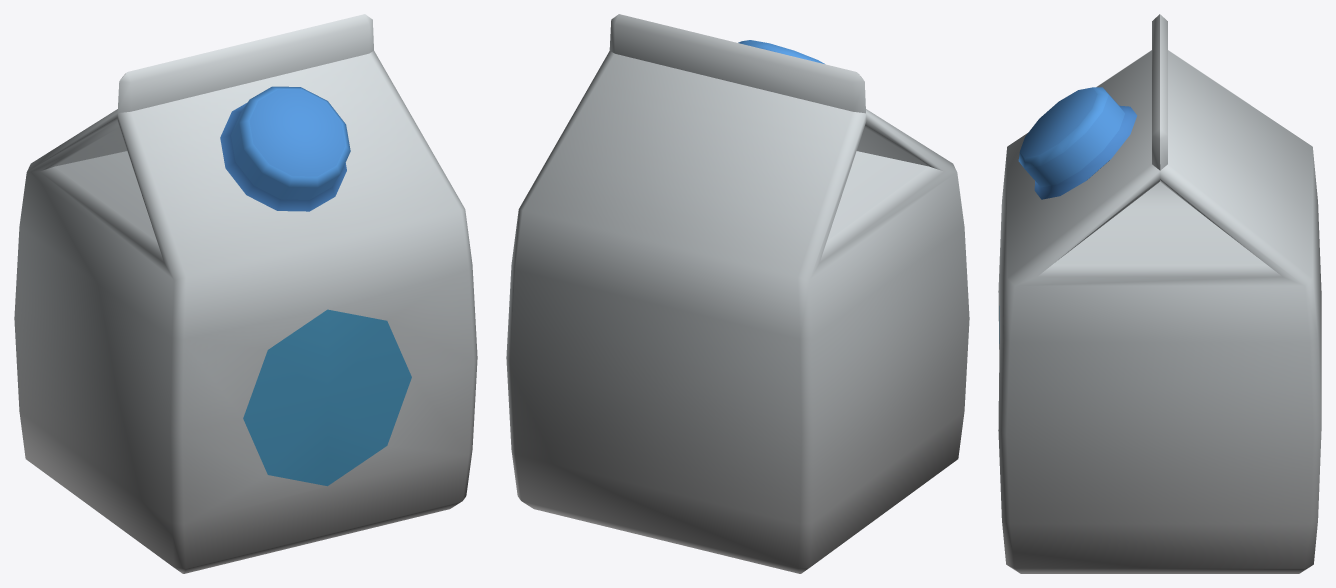
The model's file is kefir_004.fbx.
The picture shows the model from 3 angles, left to right: view 1: azimuth 30°, elevation 25°; view 2: azimuth 150°, elevation 25°; view 3: azimuth 270°, elevation 25°; orthographic projection.
Visible parts, largest first — view 1: kefir_004; view 2: kefir_004; view 3: kefir_004.
Part boxes in pixels (x1,y1,x2,y2): kefir_004: [14, 14, 477, 573]; kefir_004: [506, 14, 969, 573]; kefir_004: [998, 14, 1321, 573].
Size of the model in its own units: 7.57 by 7.02 by 10.52.
